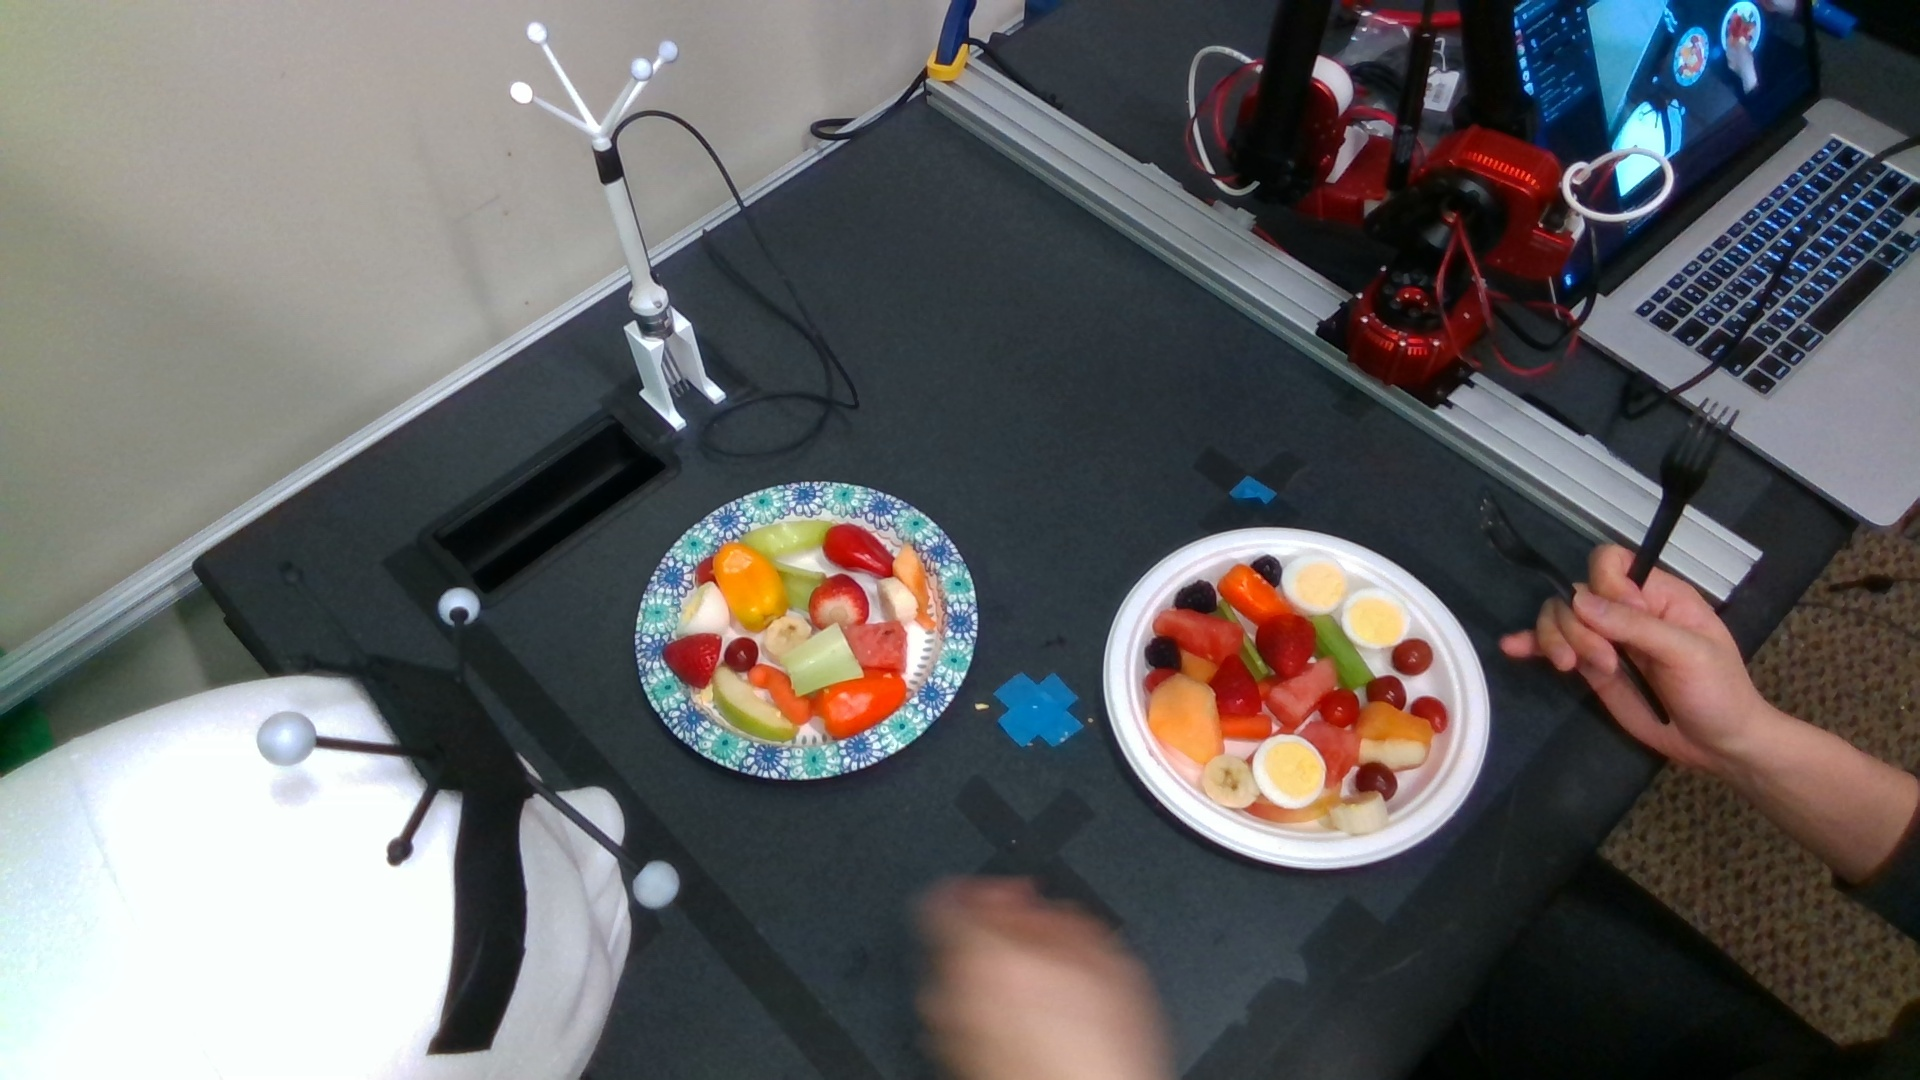apple: (712, 663, 799, 740), (741, 520, 833, 559), (1360, 738, 1428, 769)
banana: (1204, 756, 1258, 808), (762, 615, 812, 665), (1332, 793, 1386, 832)
bell pepper: (713, 545, 789, 632), (812, 669, 905, 738), (1220, 563, 1292, 625), (822, 522, 894, 578)
blackberry: (1175, 580, 1217, 612), (1146, 637, 1182, 669)
cantalope: (1147, 675, 1222, 761), (893, 545, 935, 630), (1356, 700, 1432, 746)
carrot: (749, 663, 812, 723), (1222, 715, 1273, 740)
celery: (785, 622, 864, 696), (1309, 615, 1375, 690)
cherry tomato: (1320, 688, 1360, 727), (1411, 698, 1447, 735)
egg: (1255, 735, 1324, 808), (1342, 589, 1411, 649), (1280, 555, 1346, 616), (676, 582, 732, 636)
grape: (1357, 762, 1398, 800), (1393, 640, 1432, 674), (1367, 676, 1404, 709), (725, 637, 758, 673)
melon: (1265, 657, 1336, 727), (1154, 608, 1244, 662), (1299, 721, 1360, 787), (844, 621, 909, 671)
plate: (1102, 526, 1491, 870), (636, 483, 976, 779)
strawberry: (810, 574, 870, 636), (1258, 617, 1316, 676), (662, 633, 721, 687), (1211, 655, 1261, 716)
